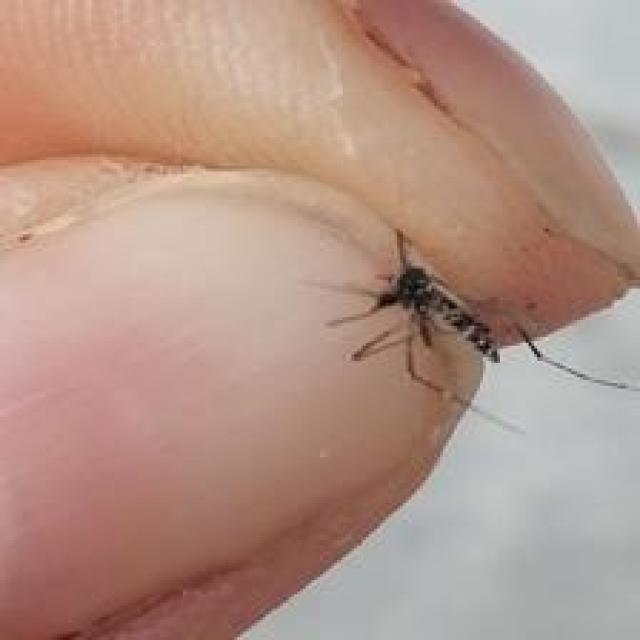Aedes albopictus: (308, 225, 640, 434)
